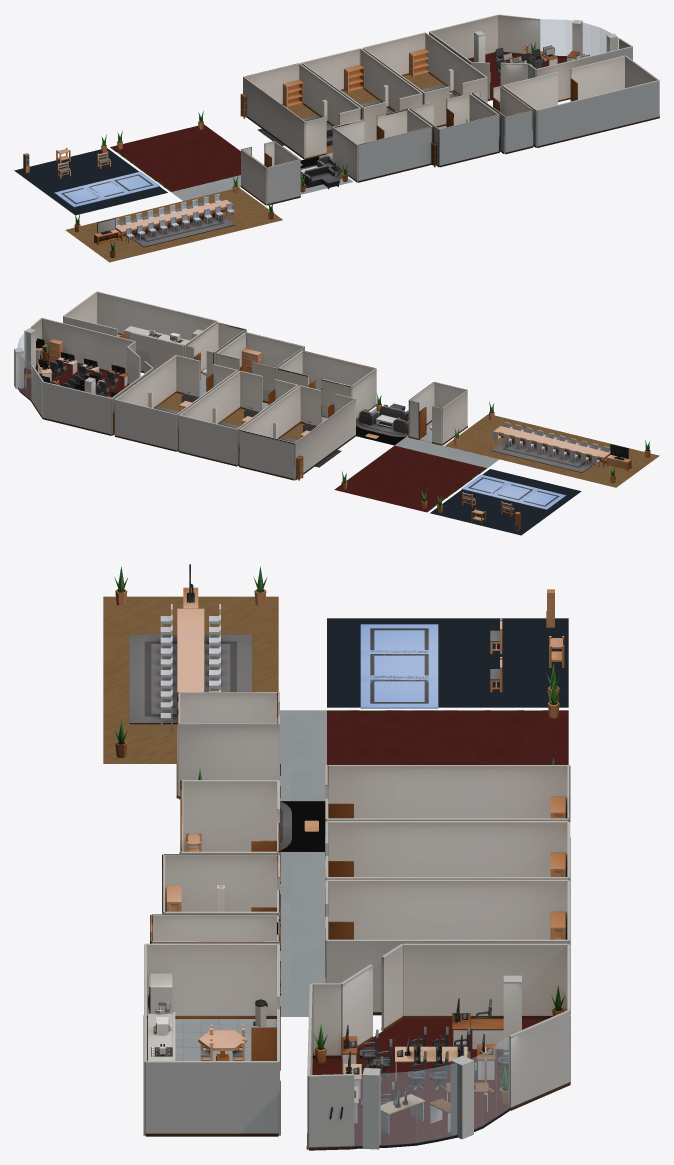
Rendered from office_baked.glb.
The picture shows the model from 3 angles, top to bottom: view 1: azimuth 30°, elevation 25°; view 2: azimuth 150°, elevation 25°; view 3: azimuth 270°, elevation 25°; orthographic projection. The views are drawn at different scales.
Parts seen in each view (by area): view 1: static_meeting, static_sport, static_analysts, wall_kitchen_s, wall_support_s, static_openspace, wall_management_w, wall_accounting_s, wall_finance_e, wall_kitchen_n2, wall_management_e, wall_pm_e (+28 smaller); view 2: static_meeting, static_analysts, static_sport, static_openspace, wall_kitchen_s, wall_openspace_0, wall_openspace_10, wall_finance_n, wall_pm_n, wall_management_w, wall_management_n, static_lobby (+31 smaller); view 3: static_meeting, static_sport, static_openspace, wall_finance_w, static_analysts, wall_pm_w, wall_management_w, wall_openspace_15, static_corridor, wall_kitchen_e, wall_kitchen_w, static_kitchen (+19 smaller).
Boxes of the visible parts, left/top/right/bottom form: static_meeting: left=65, top=175, right=282, bottom=262; static_sport: left=14, top=134, right=167, bottom=215; static_analysts: left=110, top=111, right=240, bottom=191; wall_kitchen_s: left=537, top=80, right=659, bottom=147; wall_support_s: left=357, top=127, right=432, bottom=182; static_openspace: left=469, top=19, right=617, bottom=100; wall_management_w: left=243, top=77, right=304, bottom=159; wall_accounting_s: left=439, top=114, right=499, bottom=167; wall_finance_e: left=425, top=32, right=487, bottom=102; wall_kitchen_n2: left=570, top=55, right=625, bottom=99; wall_management_e: left=299, top=63, right=361, bottom=126; wall_pm_e: left=360, top=48, right=422, bottom=111; static_meeting: left=445, top=402, right=659, bottom=487; static_analysts: left=334, top=445, right=486, bottom=512; static_sport: left=430, top=469, right=581, bottom=535; static_openspace: left=14, top=328, right=127, bottom=400; wall_kitchen_s: left=97, top=291, right=217, bottom=340; wall_openspace_0: left=43, top=382, right=111, bottom=435; wall_openspace_10: left=42, top=318, right=135, bottom=373; wall_finance_n: left=115, top=399, right=176, bottom=451; wall_pm_n: left=179, top=415, right=237, bottom=466; wall_management_w: left=295, top=399, right=356, bottom=480; wall_management_n: left=239, top=429, right=294, bottom=480; static_lobby: left=356, top=393, right=408, bottom=445; static_meeting: left=103, top=564, right=278, bottom=763; static_sport: left=327, top=589, right=568, bottom=708; static_openspace: left=312, top=975, right=565, bottom=1149; wall_finance_w: left=327, top=879, right=568, bottom=939; static_analysts: left=327, top=679, right=568, bottom=764; wall_pm_w: left=327, top=821, right=568, bottom=876; wall_management_w: left=327, top=764, right=568, bottom=818; wall_openspace_15: left=403, top=943, right=568, bottom=1018; static_corridor: left=280, top=710, right=326, bottom=1016; wall_kitchen_e: left=145, top=1061, right=278, bottom=1136; wall_kitchen_w: left=146, top=943, right=278, bottom=1018; static_kitchen: left=147, top=973, right=276, bottom=1060.
Size of the model in its own units: 43.37 by 2.7 by 15.47.
Materials: 15 (14 with a texture image).
